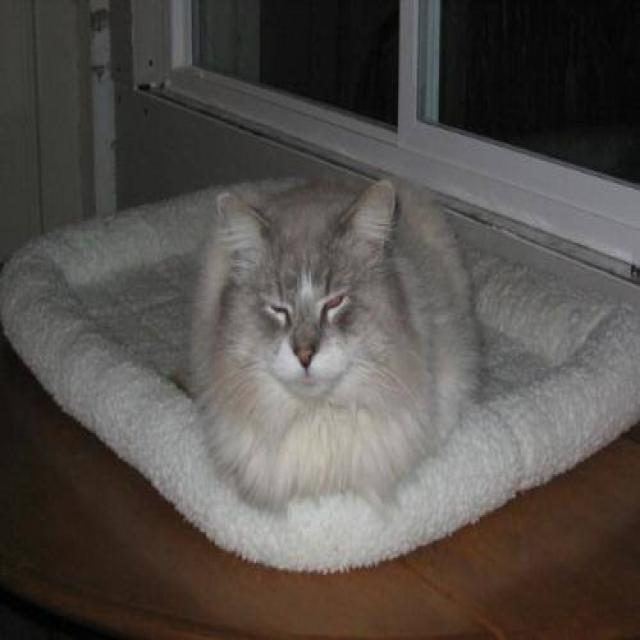cat: (186, 173, 487, 510)
